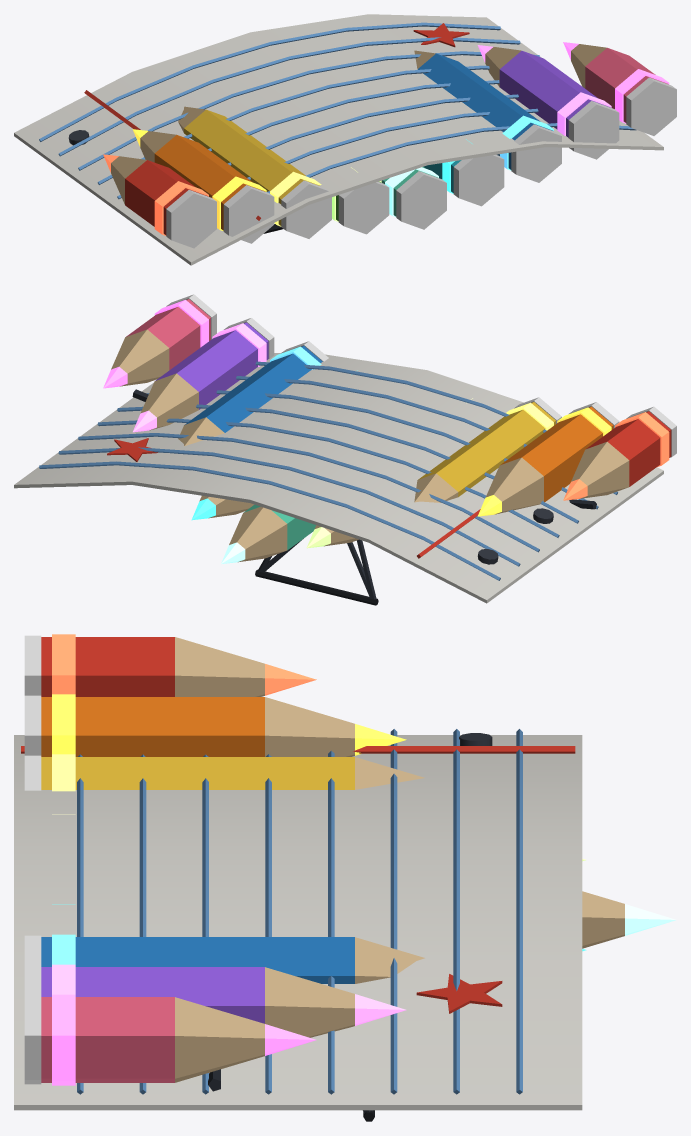
Rendered from 2026-11-28_deltaplane.glb.
3 views of the same model, one above another, from view 1: azimuth 30°, elevation 25°; view 2: azimuth 150°, elevation 25°; view 3: azimuth 270°, elevation 25° (orthographic). The views are drawn at different scales.
Parts seen in each view (by area): view 1: deltaplane_page_de_cahier, deltaplane_aile_de_crayons; view 2: deltaplane_page_de_cahier, deltaplane_aile_de_crayons; view 3: deltaplane_page_de_cahier, deltaplane_aile_de_crayons.
Boxes of the visible parts, x1,y1,x2,y2 form: deltaplane_page_de_cahier: [14, 14, 663, 265]; deltaplane_aile_de_crayons: [103, 42, 676, 248]; deltaplane_page_de_cahier: [14, 352, 663, 603]; deltaplane_aile_de_crayons: [103, 294, 676, 605]; deltaplane_page_de_cahier: [14, 729, 582, 1113]; deltaplane_aile_de_crayons: [24, 634, 675, 1121].
Bounding box in the file's own units: 3.97 × 1.21 × 2.8.
